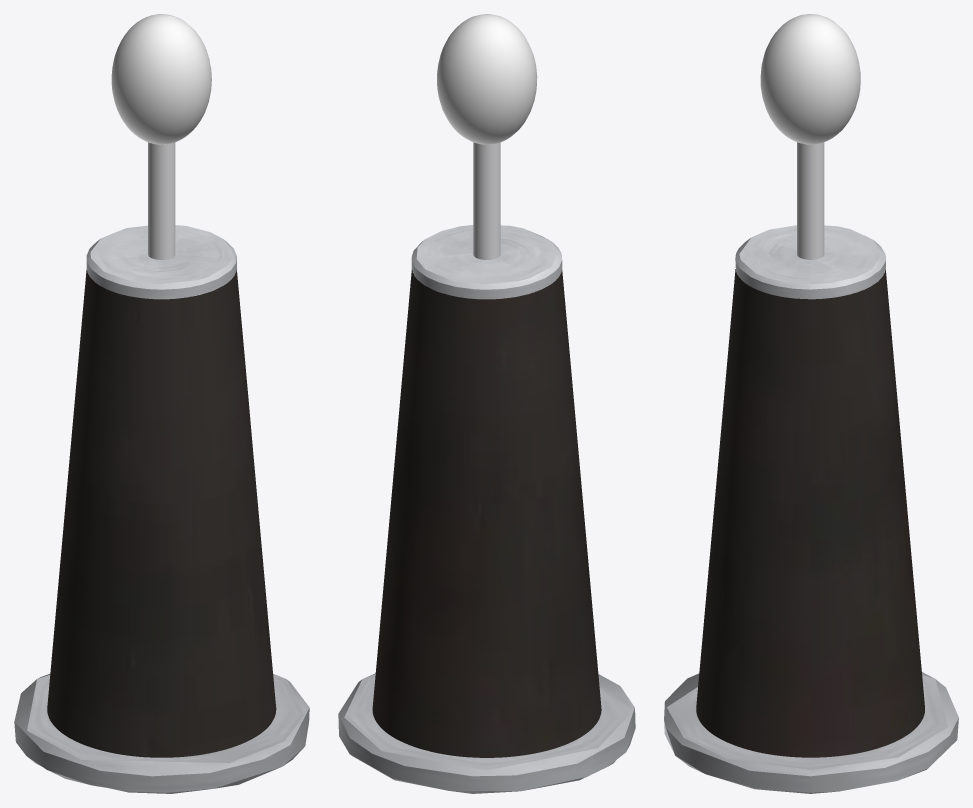
Rendered from ferro-orbis_bishop_black.glb.
3 views of the same model, side by side, from view 1: azimuth 30°, elevation 25°; view 2: azimuth 150°, elevation 25°; view 3: azimuth 270°, elevation 25° (orthographic).
Parts seen in each view (by area): view 1: ferro-orbis_bishop_black; view 2: ferro-orbis_bishop_black; view 3: ferro-orbis_bishop_black.
Part boxes in pixels (x1=…): ferro-orbis_bishop_black: x1=14, y1=14, x2=309, y2=793; ferro-orbis_bishop_black: x1=338, y1=14, x2=635, y2=793; ferro-orbis_bishop_black: x1=664, y1=14, x2=958, y2=793.
Bounding box in the file's own units: 0.0308 × 0.082 × 0.0307.
Materials: 5 (3 with a texture image).
